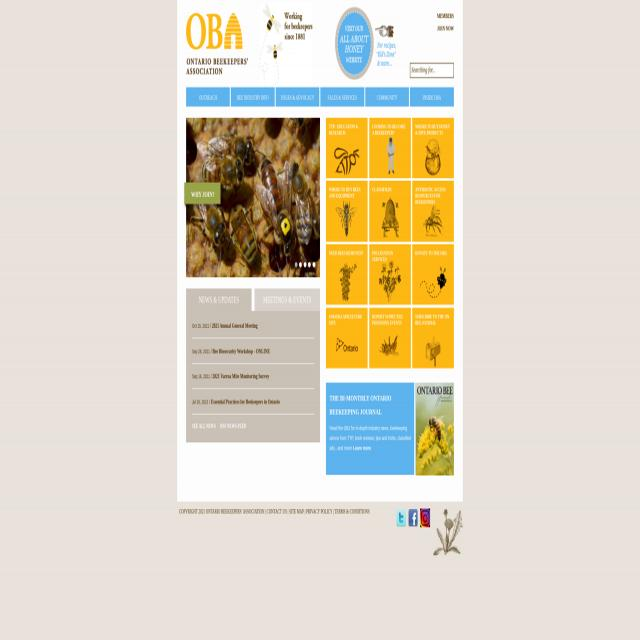button: (260, 3, 312, 91), (335, 7, 396, 80), (186, 13, 248, 75), (415, 382, 454, 475), (369, 180, 411, 242), (412, 117, 454, 178), (326, 181, 368, 242), (412, 181, 454, 242), (326, 244, 368, 305), (369, 244, 411, 305), (412, 244, 454, 305), (369, 308, 411, 369), (326, 118, 368, 178), (369, 118, 411, 178), (326, 308, 368, 368), (412, 307, 453, 368), (255, 289, 320, 311), (186, 289, 252, 310), (186, 88, 230, 106), (231, 88, 275, 106), (320, 88, 364, 106), (365, 88, 409, 106), (410, 88, 454, 106), (184, 183, 221, 204), (276, 88, 319, 106), (420, 508, 430, 528), (396, 509, 406, 527), (408, 509, 418, 527), (294, 261, 298, 268), (303, 262, 307, 268), (312, 262, 316, 268), (299, 261, 302, 268), (308, 262, 311, 268)
field: (410, 63, 454, 78)
